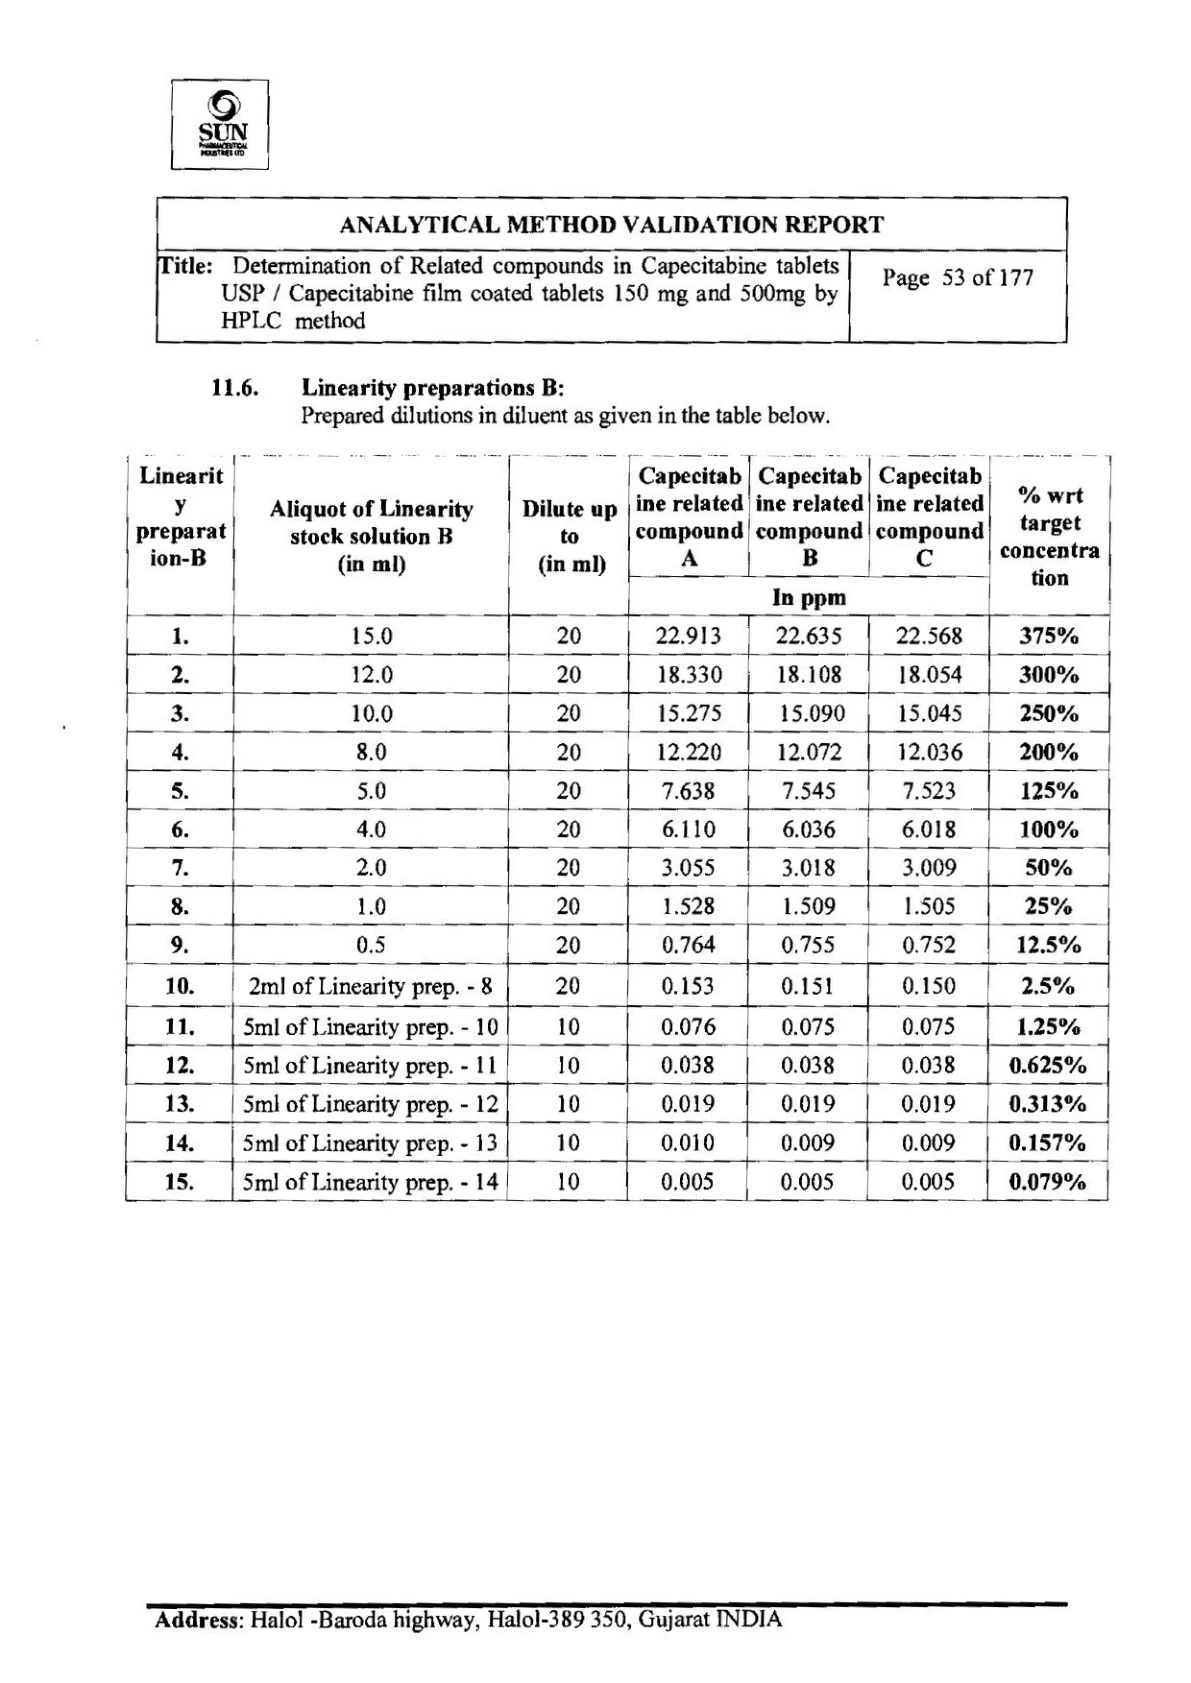merged_cells: (124, 452, 1112, 1202), (153, 195, 1069, 344)
